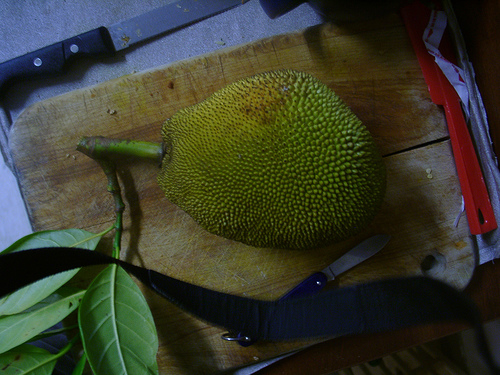jackfruit: (154, 68, 380, 252)
